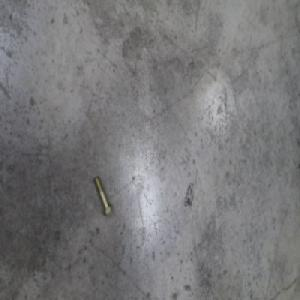Bolt: (93, 173, 112, 216)
